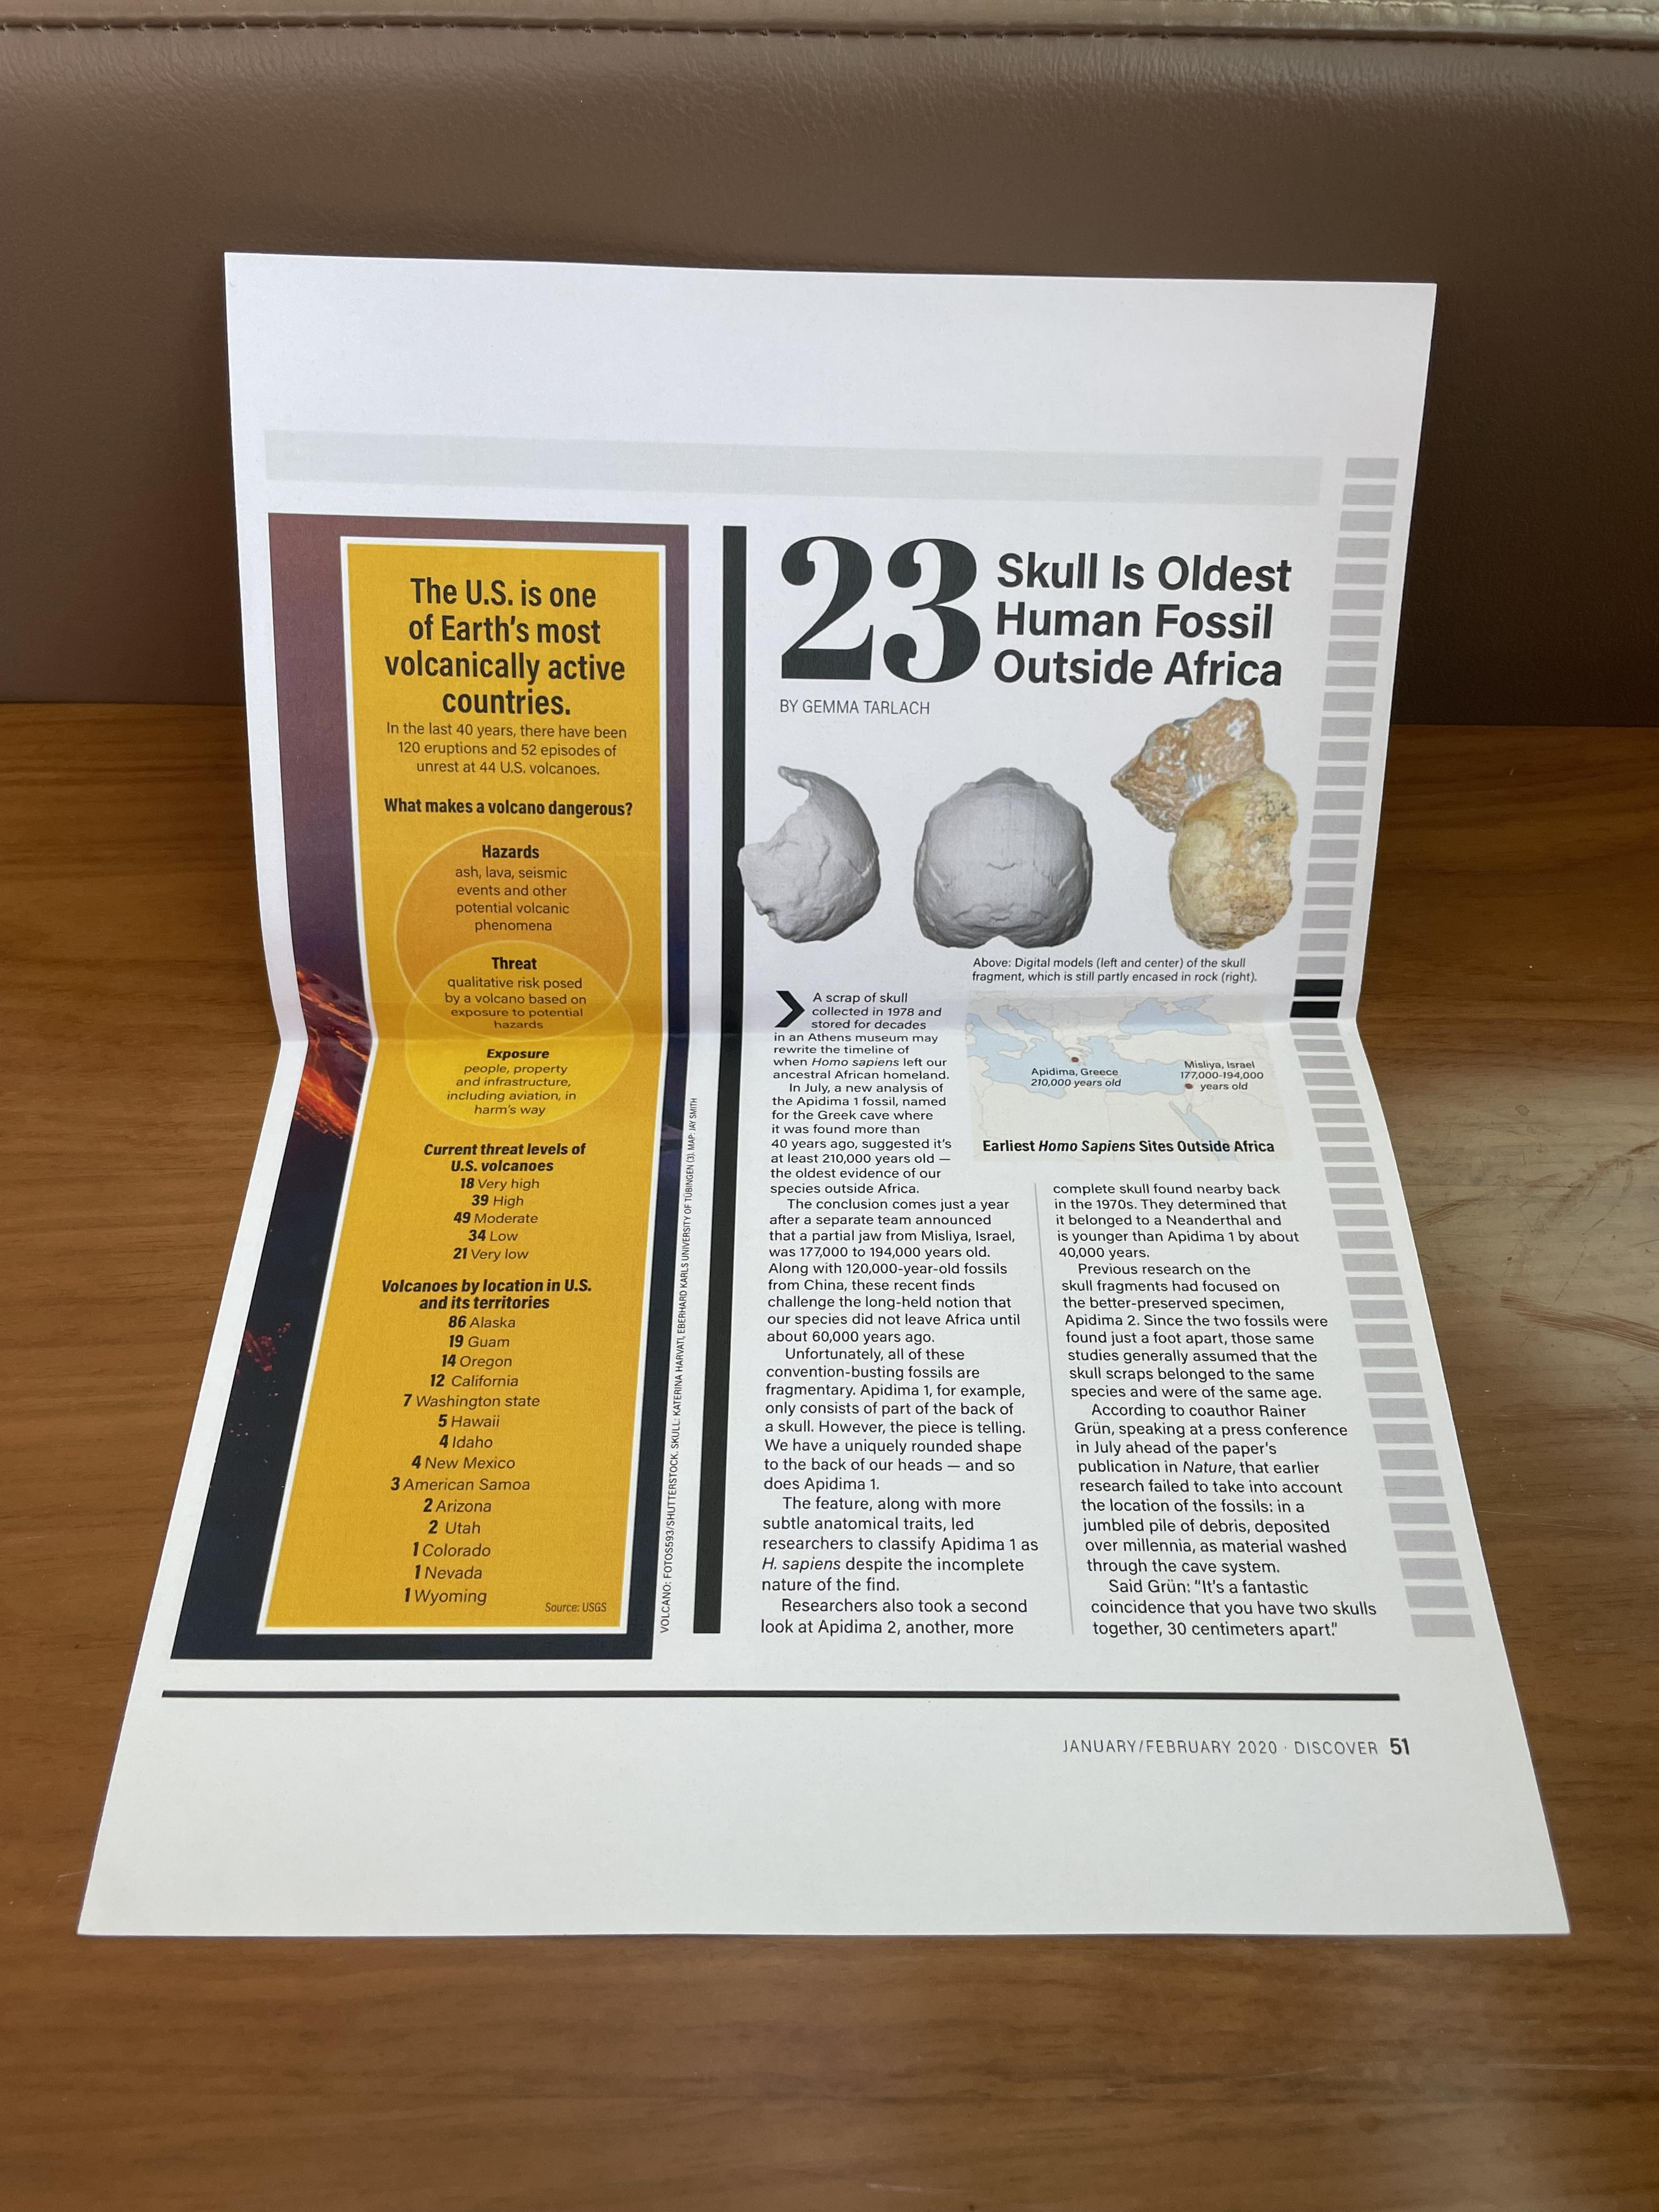paper: (35, 63, 1589, 2107)
